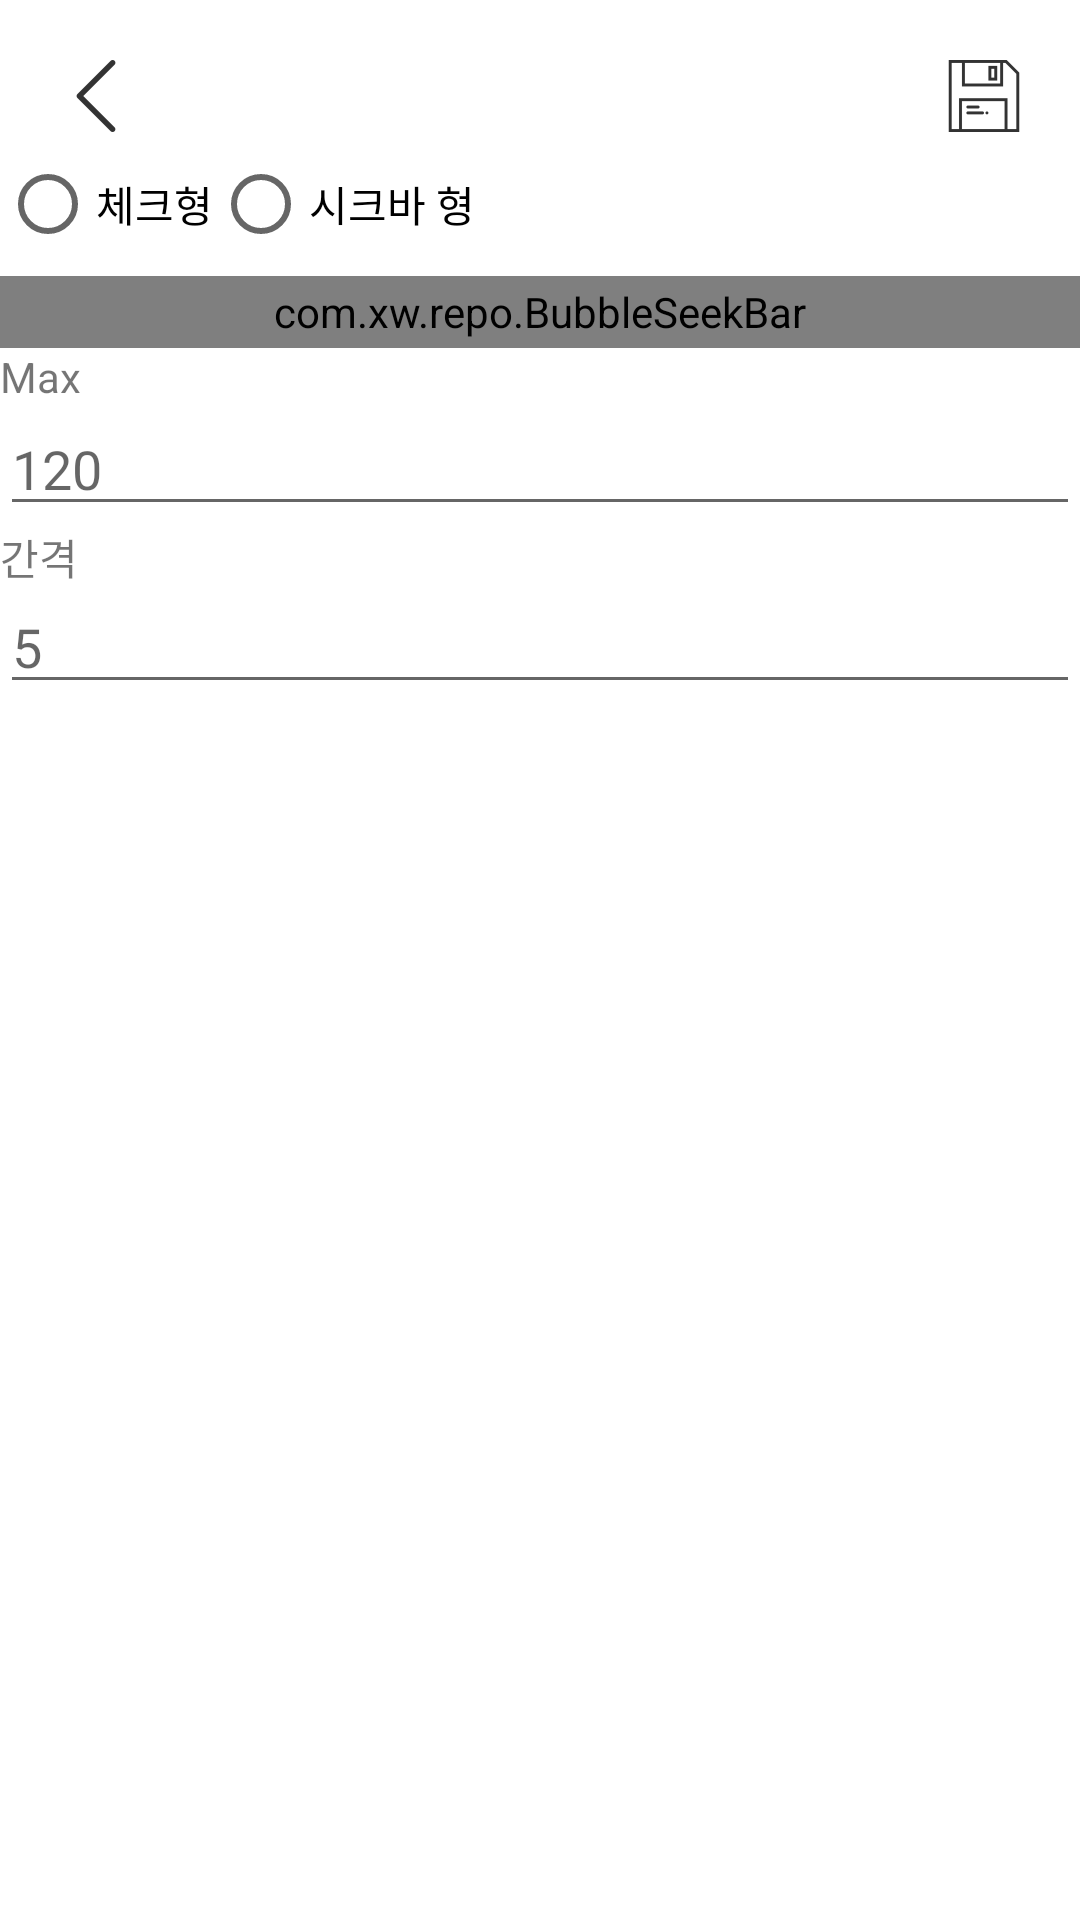

Named icons in this screenshot (1080px x 1920px) and their centers, point (x, y):
back: point (96, 96)
save: point (984, 96)
